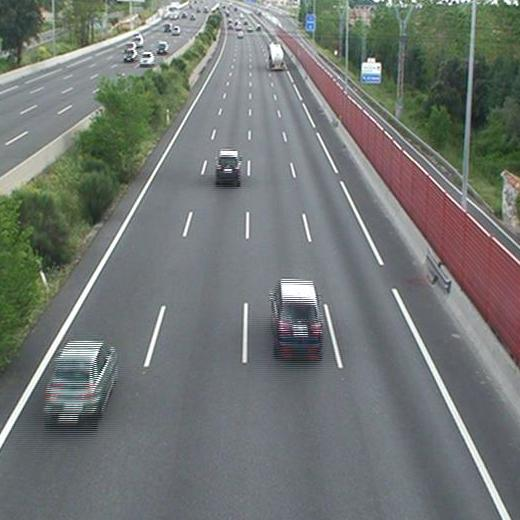car: (44, 342, 116, 416), (273, 279, 321, 349), (215, 151, 241, 182)
tank-truck: (268, 42, 284, 69)
